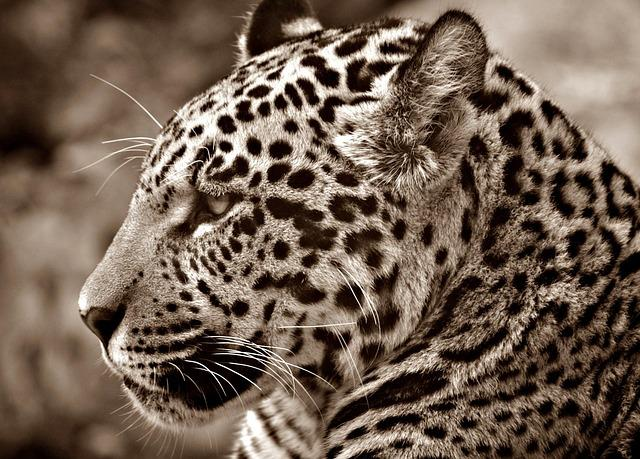Non_Gorille: (68, 0, 637, 459)
